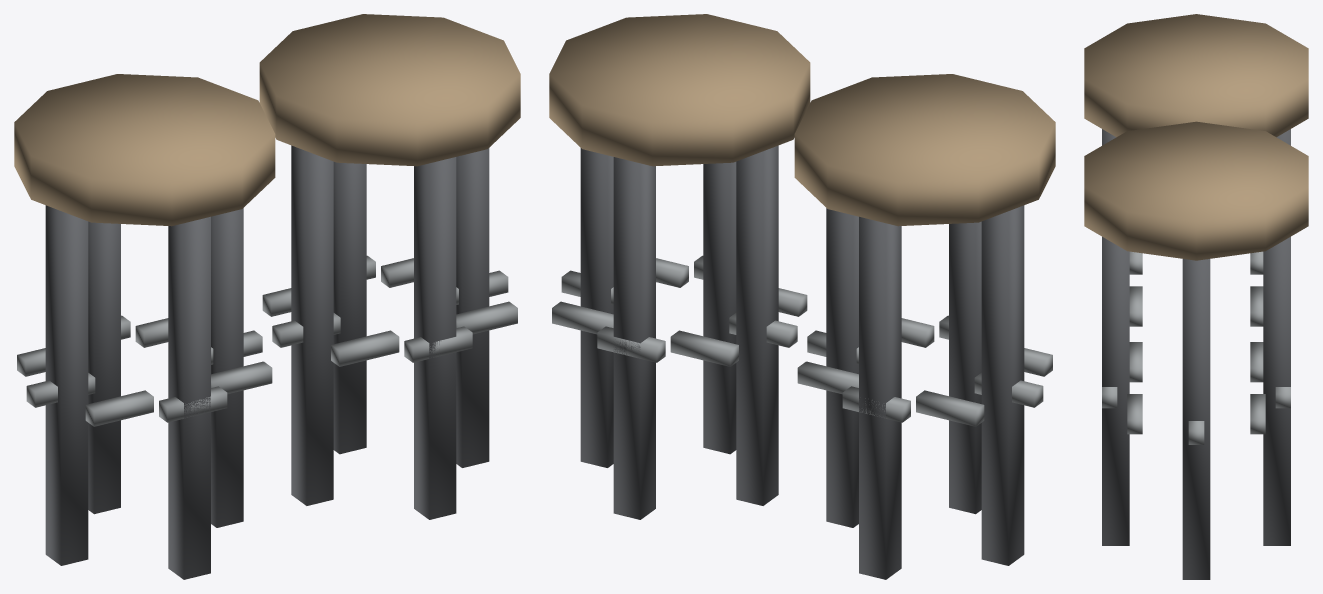
Rendered from counter_stool__cluster.glb.
The picture shows the model from 3 angles, left to right: view 1: azimuth 30°, elevation 25°; view 2: azimuth 150°, elevation 25°; view 3: azimuth 270°, elevation 25°; orthographic projection. The views are drawn at different scales.
Visible parts, largest first — view 1: world; view 2: world; view 3: world.
Boxes of the visible parts, x1,y1,x2,y2 form: world: (14, 14, 520, 579); world: (549, 14, 1055, 579); world: (1084, 14, 1308, 579).
Bounding box in the file's own units: 0.7904 × 0.655 × 0.3614.
